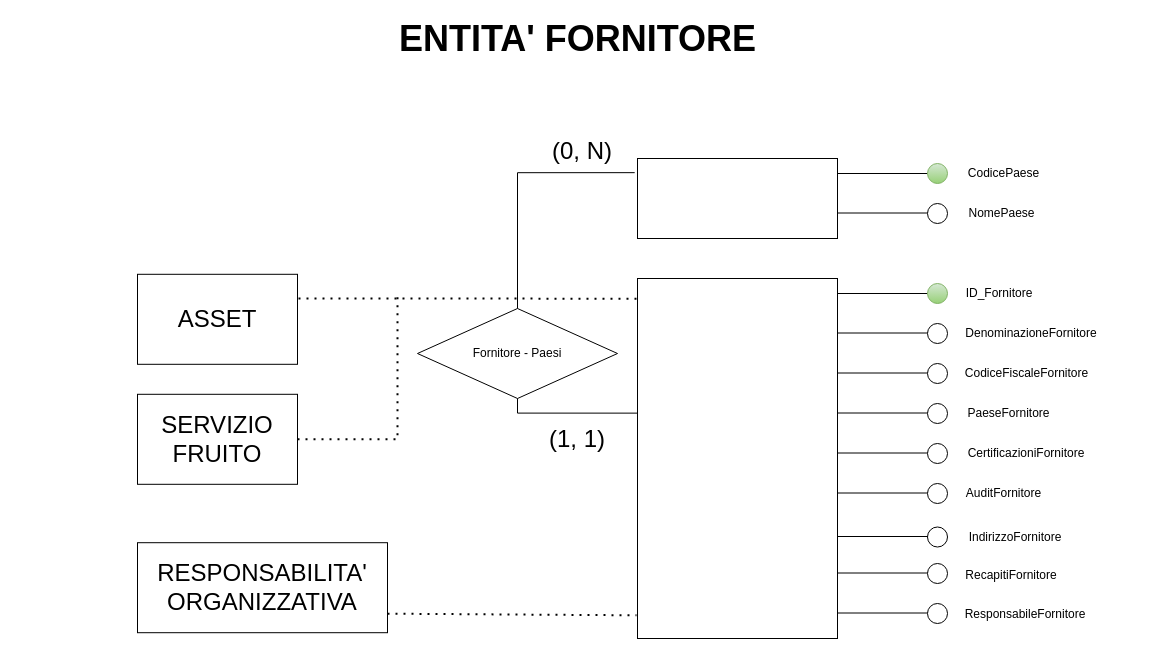
This 1154x663 diagram has some shape labels left out. Here are the shapes that lost their labels. From the top down, the centre of each, then its label:
pixel 737 198: PAESI
pixel 737 458: FORNITORE
